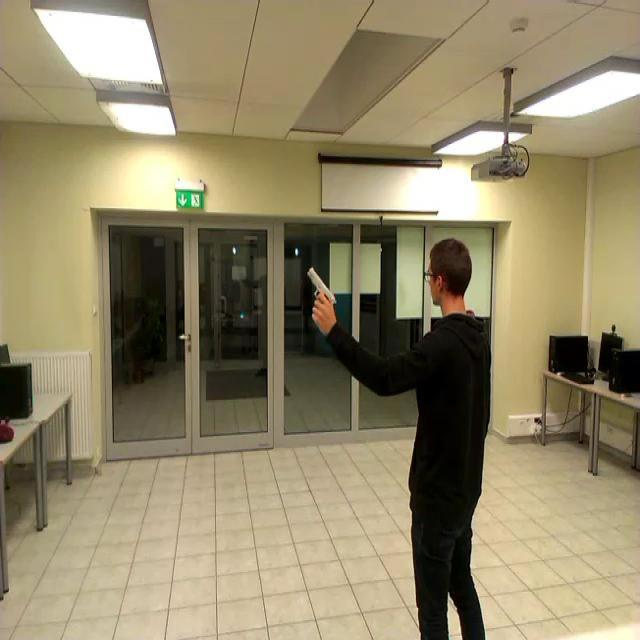weapon: (304, 266, 335, 322)
